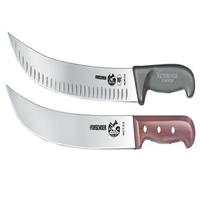knife: (4, 24, 195, 158)
